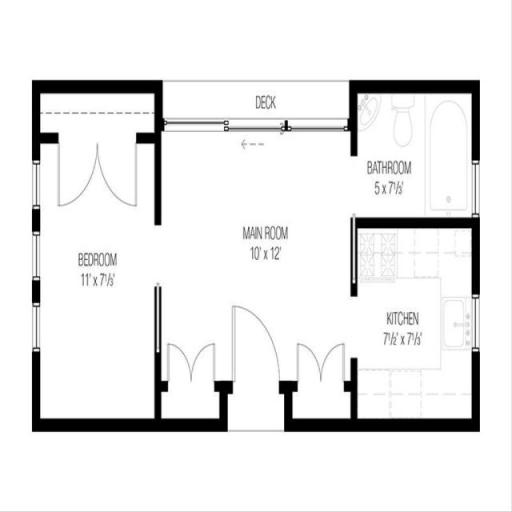bathroom: (353, 94, 470, 219)
bedroom: (43, 94, 171, 413)
hall: (178, 131, 353, 452)
kitchen: (362, 230, 478, 422)
